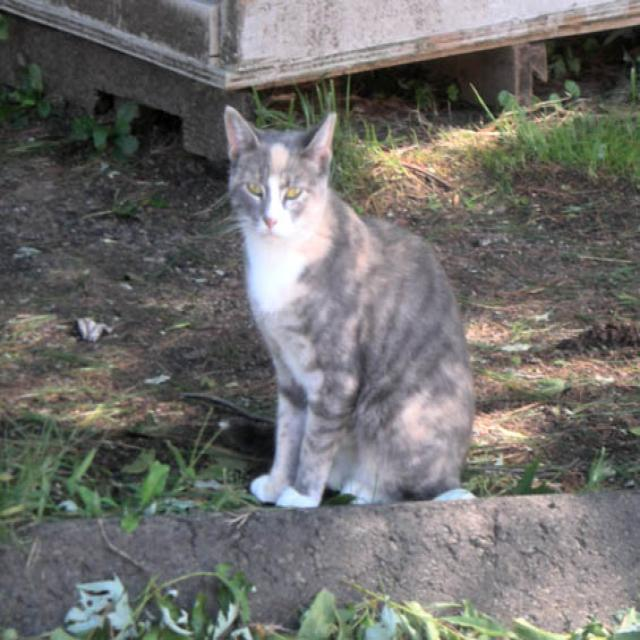cat: (227, 107, 474, 507)
